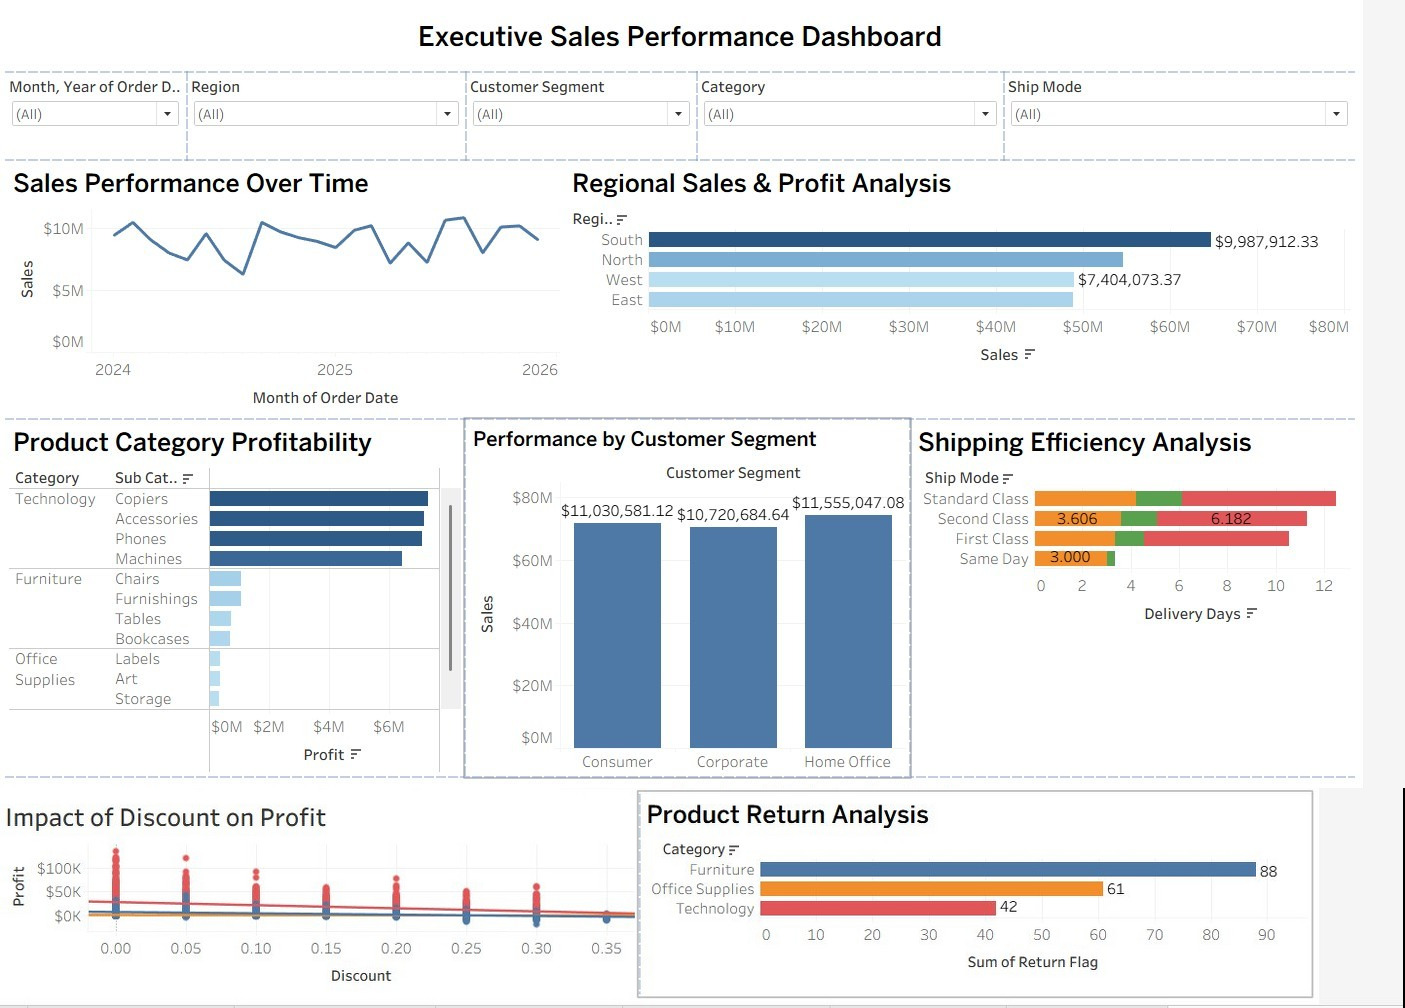

The page's visual inventory and layout, read from the dashboard file:
{"tool":"tableau","page":{"name":"Dashboard 2","canvas":[1366,1000],"ordinal":0},"visuals":[{"type":"text","box":[8,8,1350,68.7]},{"type":"filter","title":"Sales Trend View","param":"[federated.09wcsd81232wdh13vvba10xhik3g].[my:order_date:ok]","box":[8,76.7,181.5,88.5]},{"type":"filter","title":"Category Profitability View","param":"[federated.09wcsd81232wdh13vvba10xhik3g].[none:region:nk]","box":[189.5,76.7,279.5,88.5]},{"type":"filter","title":"Category Profitability View","param":"[federated.09wcsd81232wdh13vvba10xhik3g].[none:customer_segment:nk]","box":[469,76.7,231,88.5]},{"type":"filter","title":"Category Profitability View","param":"[federated.09wcsd81232wdh13vvba10xhik3g].[none:category:nk]","box":[700,76.7,307,88.5]},{"type":"filter","title":"Category Profitability View","param":"[federated.09wcsd81232wdh13vvba10xhik3g].[none:ship_mode:nk]","box":[1007,76.7,351,88.5]},{"type":"worksheet","title":"Sales Trend View","mark":"Automatic","rows":["sales"],"cols":["order_date"],"box":[8,165.1,559,258.8]},{"type":"worksheet","title":"Regional Performance View","mark":"Automatic","rows":["region"],"cols":["sales"],"box":[567,165.1,791,258.8]},{"type":"worksheet","title":"Category Profitability View","mark":"Automatic","rows":["category","sub_category"],"cols":["profit"],"box":[8,423.9,459.9,358.1]},{"type":"worksheet","title":"Customer Segment View","mark":"Automatic","rows":["sales"],"cols":["customer_segment"],"box":[467.9,423.9,445.1,358.1]},{"type":"worksheet","title":"Shipping Performance View","mark":"Bar","rows":["ship_mode"],"cols":["delivery_days"],"box":[913,423.9,445,358.1]},{"type":"worksheet","title":"Discount vs Profit View","mark":"Circle","rows":["profit"],"cols":["discount"],"box":[8,782,659.5,210]},{"type":"worksheet","title":"Return Analysis View","mark":"Bar","rows":["category"],"cols":["return_flag"],"box":[667.5,782,690.5,210]}]}

Visuals, with their boxes in screenshot pixels (x1, y1, x2, y2), scaled from the page's 1366x1000 canvas onto the 1405x1008 screenshot:
text: <region>8, 8, 1397, 77</region>
"Sales Trend View" filter: <region>8, 77, 195, 167</region>
"Category Profitability View" filter: <region>195, 77, 482, 167</region>
"Category Profitability View" filter: <region>482, 77, 720, 167</region>
"Category Profitability View" filter: <region>720, 77, 1036, 167</region>
"Category Profitability View" filter: <region>1036, 77, 1397, 167</region>
"Sales Trend View" worksheet: <region>8, 166, 583, 427</region>
"Regional Performance View" worksheet: <region>583, 166, 1397, 427</region>
"Category Profitability View" worksheet: <region>8, 427, 481, 788</region>
"Customer Segment View" worksheet: <region>481, 427, 939, 788</region>
"Shipping Performance View" worksheet (Bar marks): <region>939, 427, 1397, 788</region>
"Discount vs Profit View" worksheet (Circle marks): <region>8, 788, 687, 1000</region>
"Return Analysis View" worksheet (Bar marks): <region>687, 788, 1397, 1000</region>
